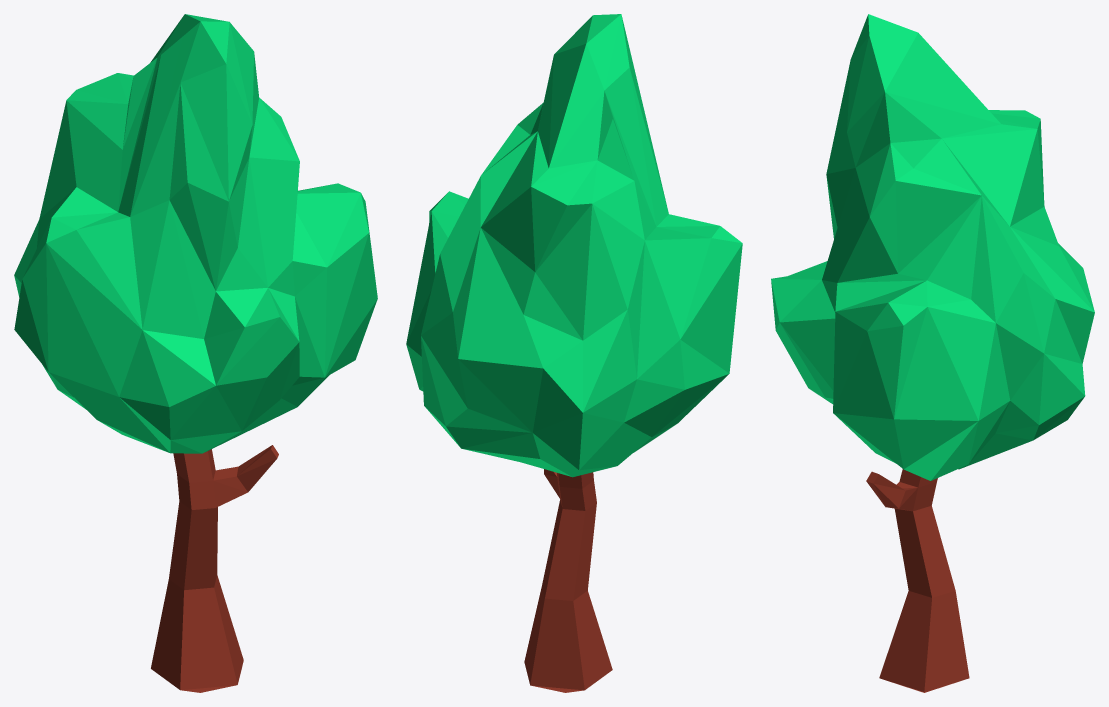
File: tree3.fbx
3 renders of one model, left to right at view 1: azimuth 30°, elevation 25°; view 2: azimuth 150°, elevation 25°; view 3: azimuth 270°, elevation 25°, orthographic. The views are drawn at different scales.
Visible parts, largest first — view 1: SM_Generic_Tree_03, SM_Generic_Tree_03.001; view 2: SM_Generic_Tree_03, SM_Generic_Tree_03.001; view 3: SM_Generic_Tree_03, SM_Generic_Tree_03.001.
Boxes of the visible parts, x1,y1,x2,y2 form: SM_Generic_Tree_03: (14,14,377,453); SM_Generic_Tree_03.001: (151,445,278,692); SM_Generic_Tree_03: (406,14,742,477); SM_Generic_Tree_03.001: (524,469,612,692); SM_Generic_Tree_03: (771,14,1094,480); SM_Generic_Tree_03.001: (866,469,969,692).
Size of the model in its own units: 173 by 349 by 154.
